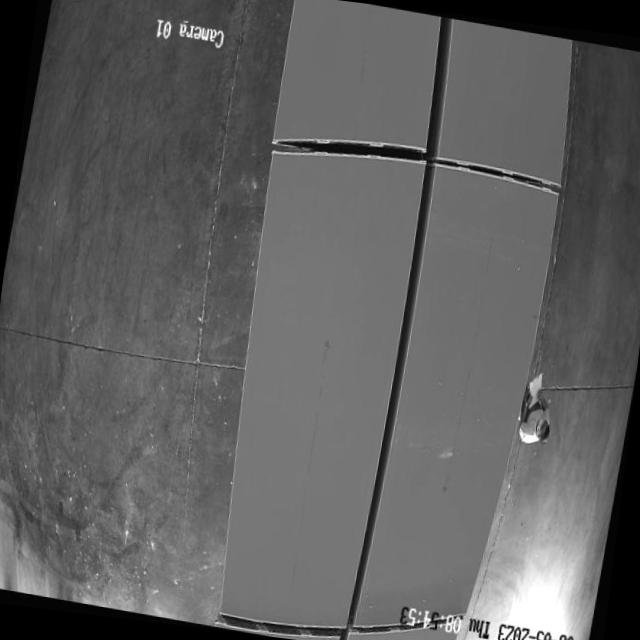person: (511, 368, 564, 453)
